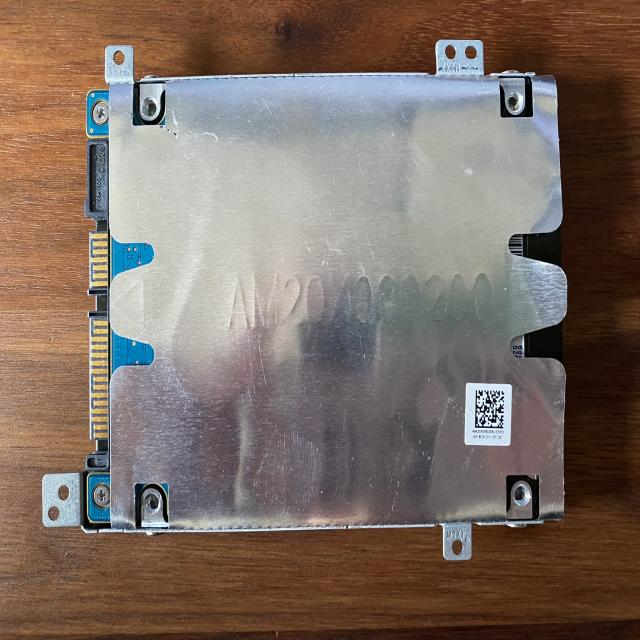PhillipsScrewHead: (91, 99, 109, 125), (93, 484, 111, 509)
